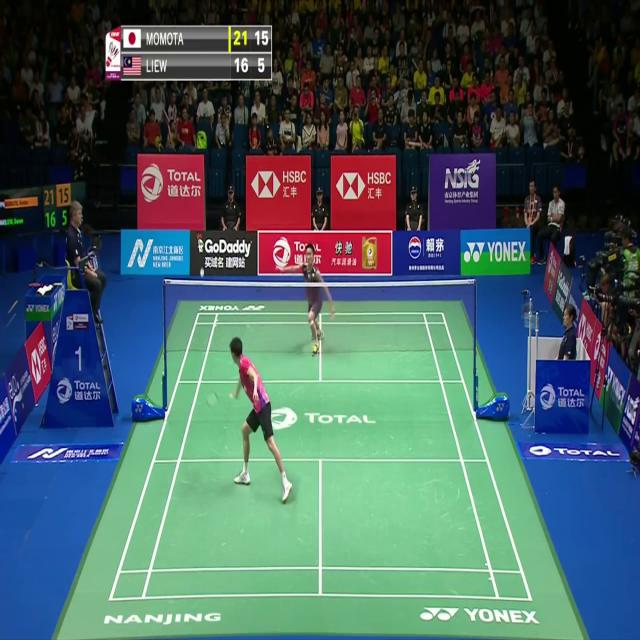Shuttlecock: (199, 266, 205, 278)
